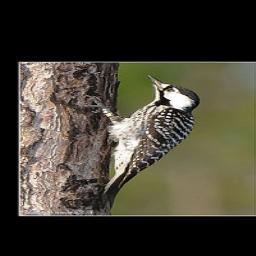Woodpecker: (77, 75, 201, 211)
